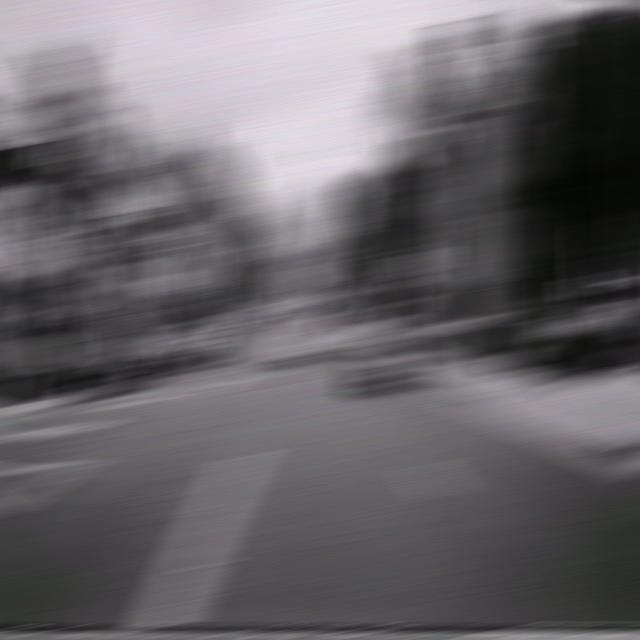speedLimit25: (390, 248, 422, 285)
